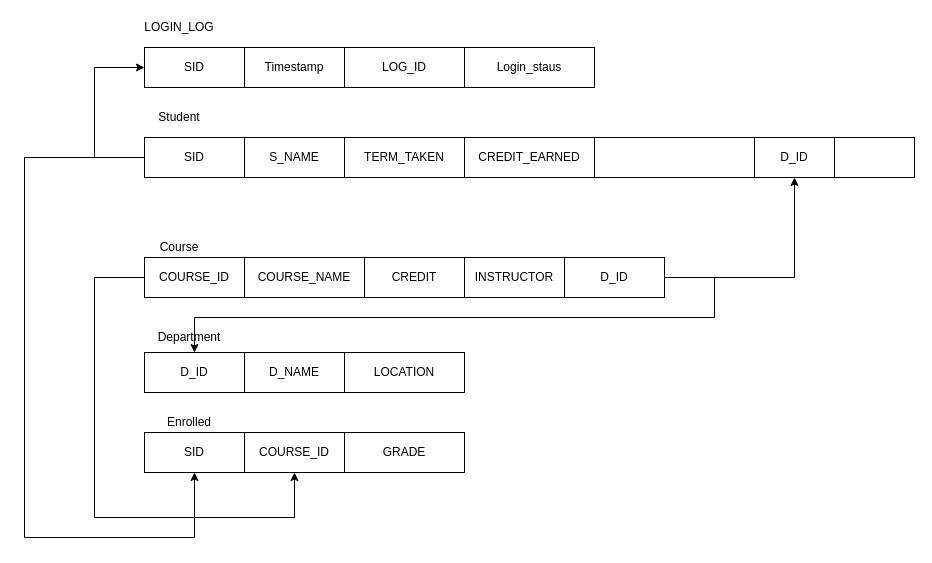
Image size: 932x563. Some labels were removed from this diagram. The box of each missing label's shape, as (x1, y1, x2, y2) in pixels:
CREDIT_TRANSFER: (594, 136, 754, 178)
S_Password: (834, 136, 914, 178)
